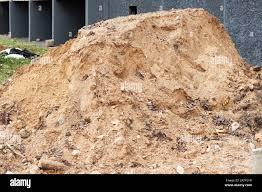sand: (168, 28, 198, 51), (16, 86, 42, 110), (120, 47, 146, 70), (66, 84, 90, 104), (40, 66, 61, 80), (194, 77, 213, 88)
